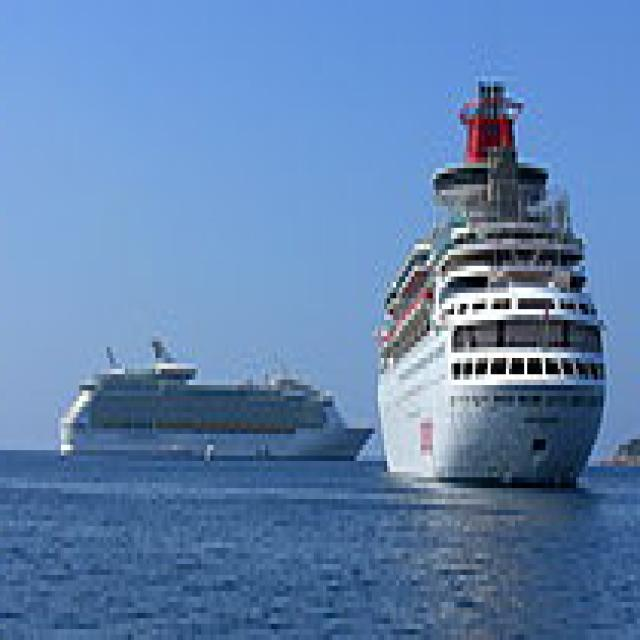Cruise: (378, 65, 612, 488), (61, 331, 381, 461)
